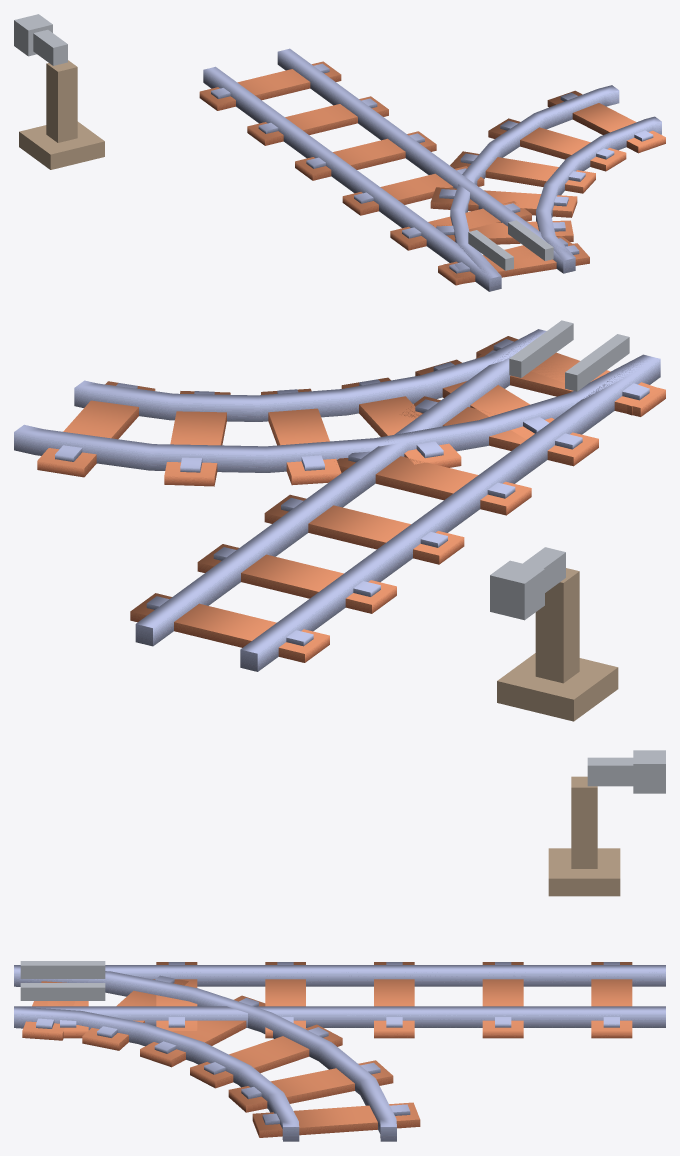
File: switch.glb
The picture shows the model from 3 angles, top to bottom: view 1: azimuth 30°, elevation 25°; view 2: azimuth 150°, elevation 25°; view 3: azimuth 270°, elevation 25°; orthographic projection. The views are drawn at different scales.
Visible parts, largest first — view 1: switch_through, switch_diverge, switch_lever_base, switch_lever_arm, switch_blade_-1, switch_blade_1; view 2: switch_through, switch_diverge, switch_lever_base, switch_lever_arm, switch_blade_1, switch_blade_-1; view 3: switch_through, switch_diverge, switch_lever_base, switch_lever_arm, switch_blade_1, switch_blade_-1.
Boxes of the visible parts, <box> form: switch_through: <box>199,48,578,291</box>; switch_diverge: <box>430,85,665,283</box>; switch_lever_base: <box>19,60,104,169</box>; switch_lever_arm: <box>14,14,67,65</box>; switch_blade_-1: <box>468,230,513,270</box>; switch_blade_1: <box>508,220,553,260</box>; switch_through: <box>130,329,665,671</box>; switch_diverge: <box>14,329,663,486</box>; switch_lever_base: <box>497,568,618,721</box>; switch_lever_arm: <box>490,547,565,620</box>; switch_blade_1: <box>509,320,573,377</box>; switch_blade_-1: <box>565,334,629,391</box>; switch_through: <box>14,962,665,1038</box>; switch_diverge: <box>14,965,420,1141</box>; switch_lever_base: <box>548,776,620,896</box>; switch_lever_arm: <box>587,750,665,793</box>; switch_blade_1: <box>20,983,105,1000</box>; switch_blade_-1: <box>20,961,105,978</box>.
Bounding box in the file's own units: 4 × 0.84 × 4.
Materials: 4 (2 with a texture image).
